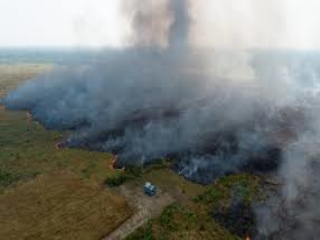smoke: (101, 2, 315, 156), (10, 59, 231, 167), (245, 132, 319, 233)
